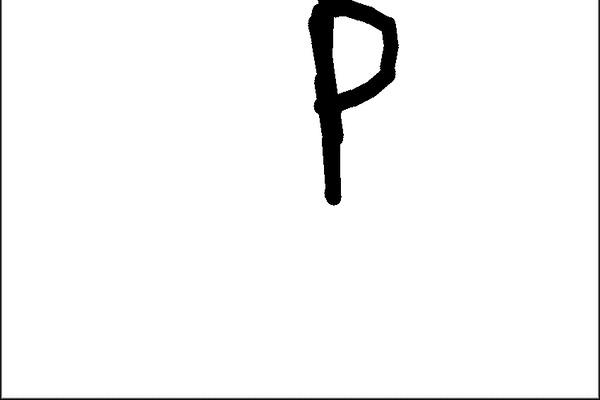P: (299, 0, 412, 213)
